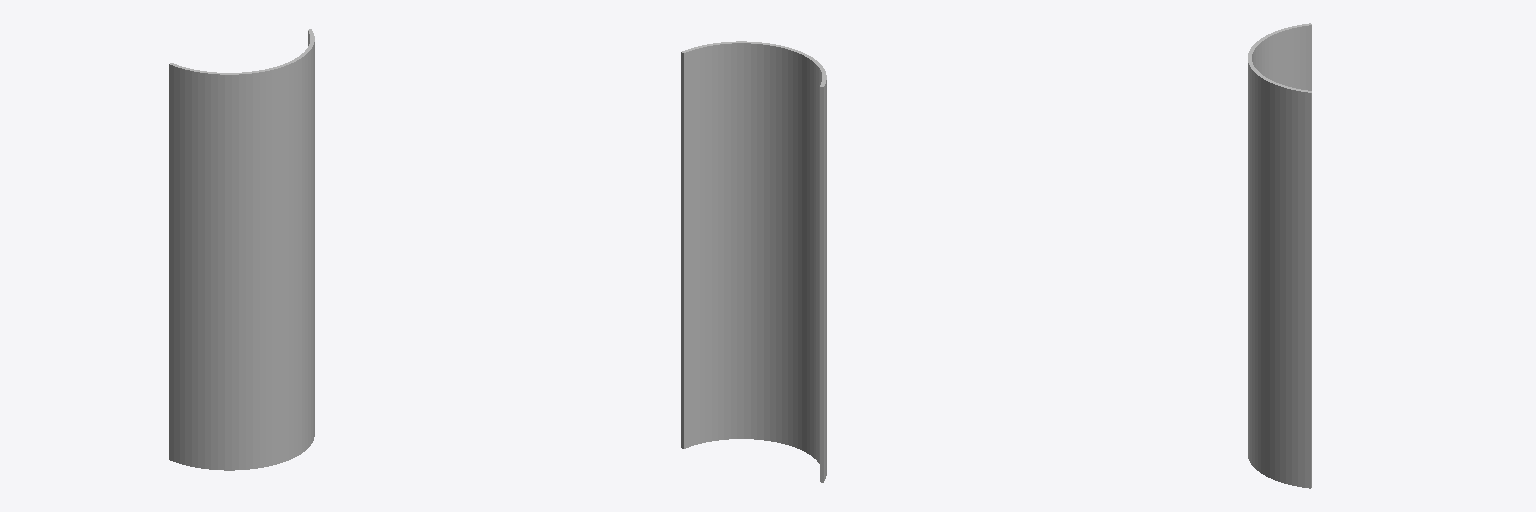
File: solar-panel.obj
3 views of the same model, side by side, from view 1: azimuth 30°, elevation 25°; view 2: azimuth 150°, elevation 25°; view 3: azimuth 270°, elevation 25° (orthographic).
Visible parts, largest first — view 1: Solar_Panel; view 2: Solar_Panel; view 3: Solar_Panel.
Part boxes in pixels (x1,y1,x2,y2): Solar_Panel: (169, 29, 314, 470); Solar_Panel: (681, 41, 826, 482); Solar_Panel: (1248, 23, 1311, 488).
Size of the model in its own units: 755 by 2000 by 297.